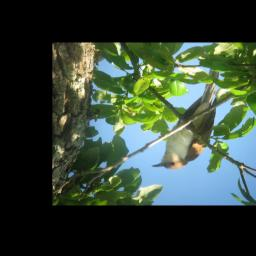Cuckoo: (149, 65, 222, 171)
